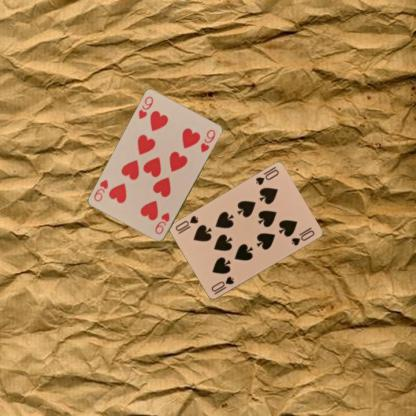10s: (208, 274, 236, 296), (253, 167, 280, 187)
9h: (136, 93, 154, 120), (153, 210, 171, 236)
